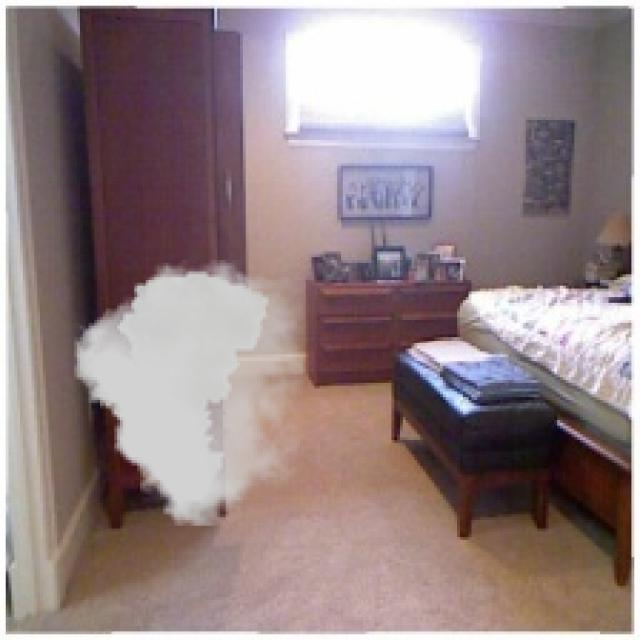smoke: (74, 260, 303, 526)
